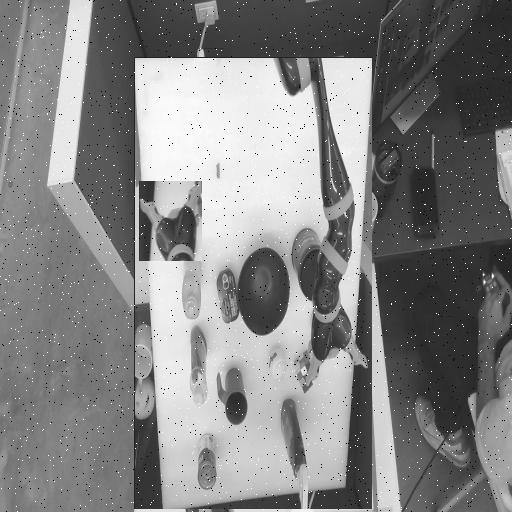bowl: (218, 233, 268, 318)
cleanser: (300, 161, 316, 241)
coffee_can: (176, 267, 214, 338)
jaco: (139, 182, 202, 261)
meat_can: (267, 244, 289, 298)
mug: (259, 143, 289, 199)
mustard_bottle: (305, 273, 324, 292)
rubik: (190, 185, 212, 207)
soup_can: (290, 97, 308, 115)
tennis_ball: (221, 188, 238, 218)
windex: (198, 49, 225, 167)
wooden_block: (170, 219, 195, 244)
workspace: (134, 58, 372, 509)
